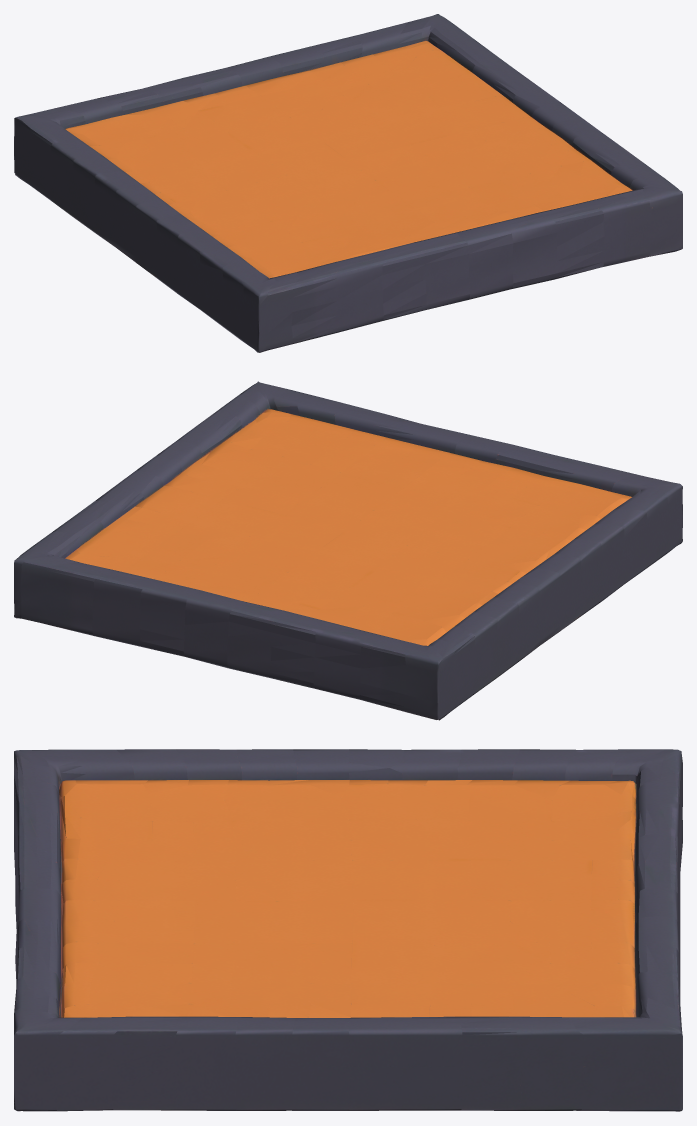
File: armoredFoundation.glb
The picture shows the model from 3 angles, top to bottom: view 1: azimuth 30°, elevation 25°; view 2: azimuth 150°, elevation 25°; view 3: azimuth 270°, elevation 25°; orthographic projection. The views are drawn at different scales.
Bounding box in the file's own units: 1 × 0.1362 × 1.
1 material, 1 textured.
